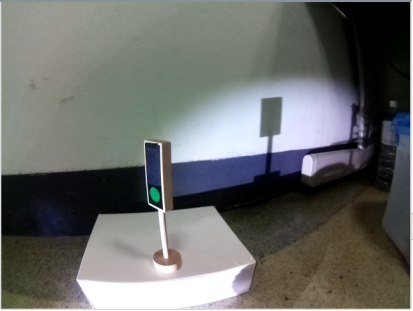Green: (139, 139, 179, 216)
